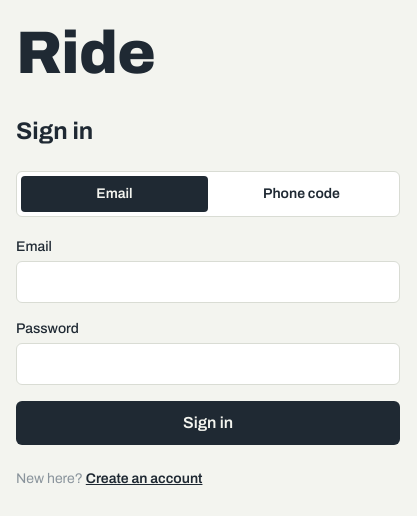
Test case: Sign-in providers › wrong code shows the generic server error
Click the tab "Phone code" at (302, 194), box [208,176,395,212]
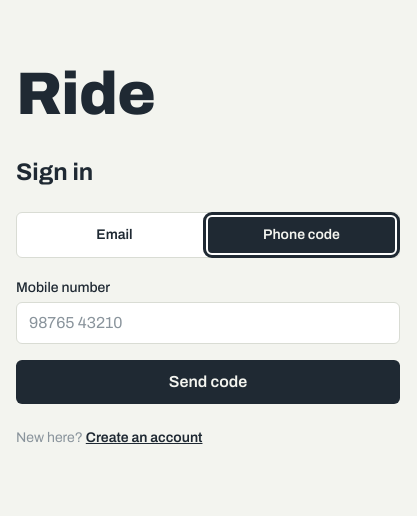
Type "9876543210" into the field labelled "Mobile number" at (208, 323), box [16,302,400,344]
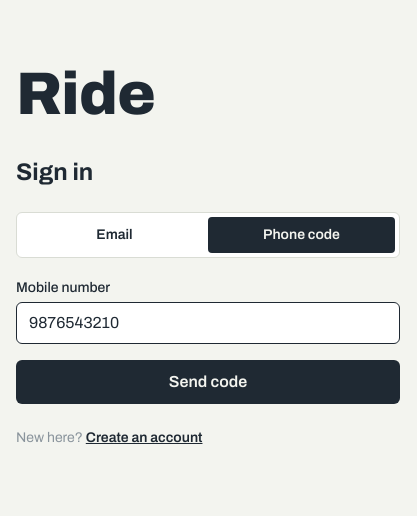
Click the button "Send code" at (208, 382), box [16,360,400,404]
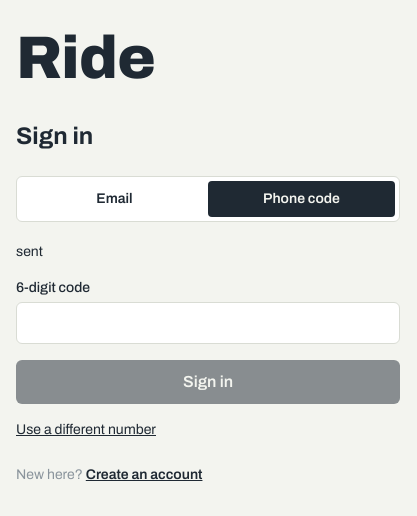
Type "000000" into the field labelled "6-digit code" at (208, 322), box [16,302,400,344]
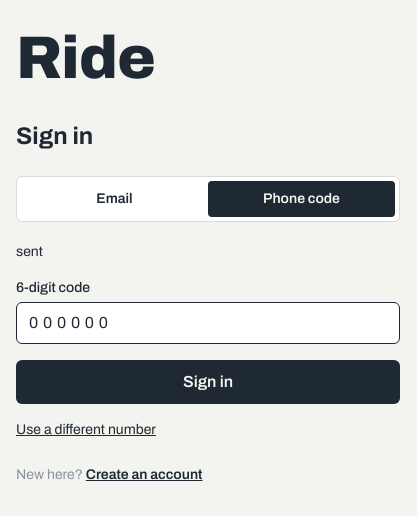
Click the button "Sign in" at (208, 382), box [16,360,400,404]
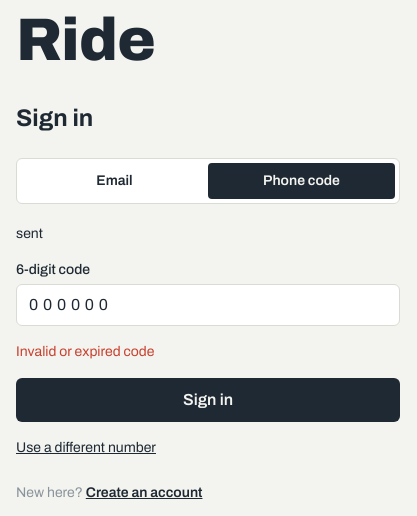
Expected: the message reads "Invalid or expired code", [16,344,154,358]
